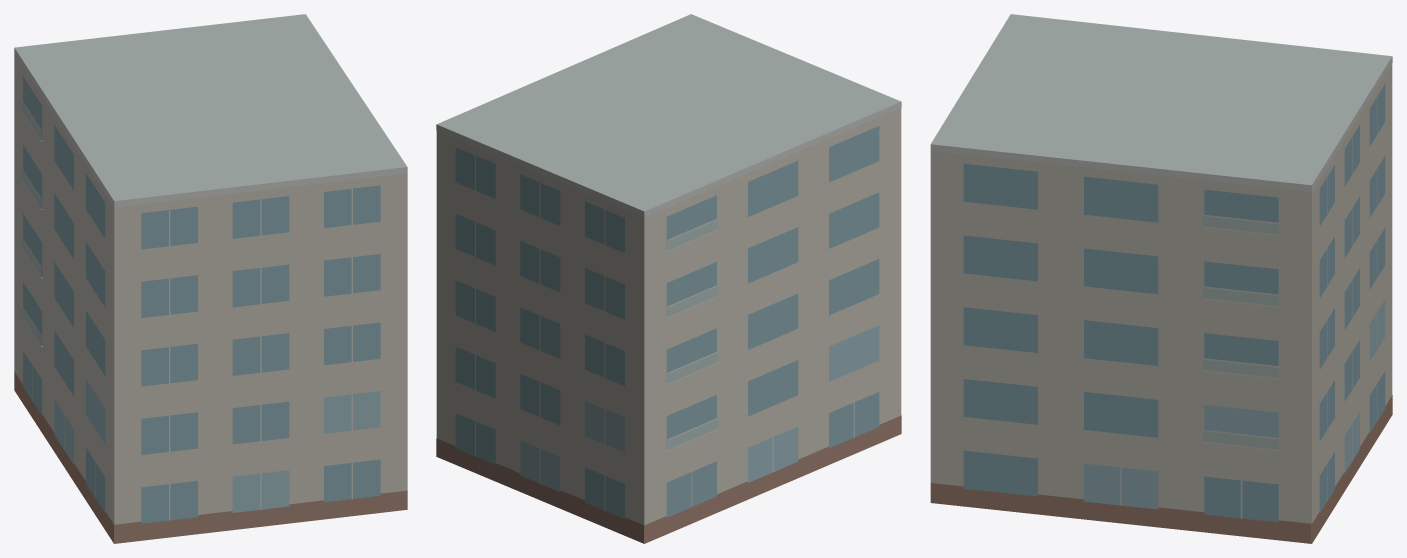
Rendered from survey-upis-32670269.glb.
The picture shows the model from 3 angles, left to right: view 1: azimuth 30°, elevation 25°; view 2: azimuth 150°, elevation 25°; view 3: azimuth 270°, elevation 25°; orthographic projection. The views are drawn at different scales.
Visible parts, largest first — view 1: survey-upis-32670269.tmp; view 2: survey-upis-32670269.tmp; view 3: survey-upis-32670269.tmp.
Part boxes in pixels (left/top/right/bottom): survey-upis-32670269.tmp: left=14, top=14, right=407, bottom=543; survey-upis-32670269.tmp: left=436, top=14, right=901, bottom=543; survey-upis-32670269.tmp: left=930, top=14, right=1392, bottom=543.
Size of the model in its own units: 13.53 by 13.2 by 15.42.
